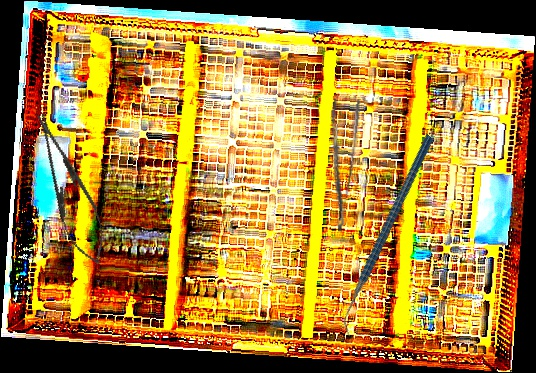Chopper: (287, 133, 491, 339)
Dressing Forceps: (314, 95, 364, 233)
Needle Holder: (22, 106, 117, 271)
